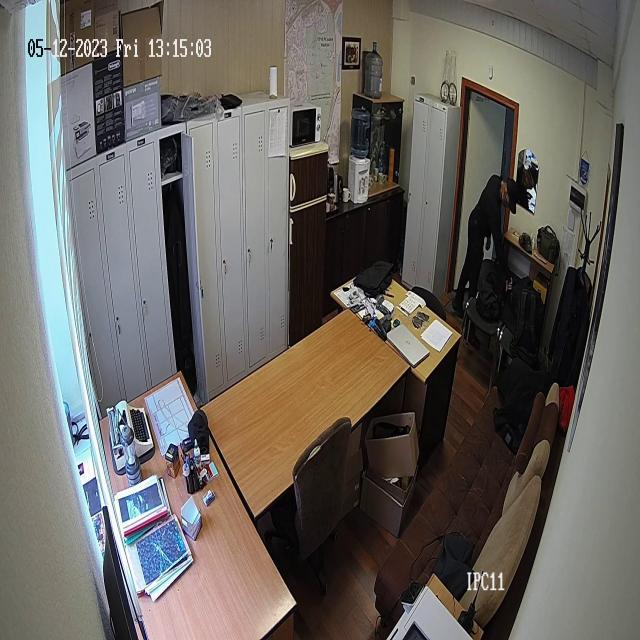pistol: (502, 276, 517, 330)
